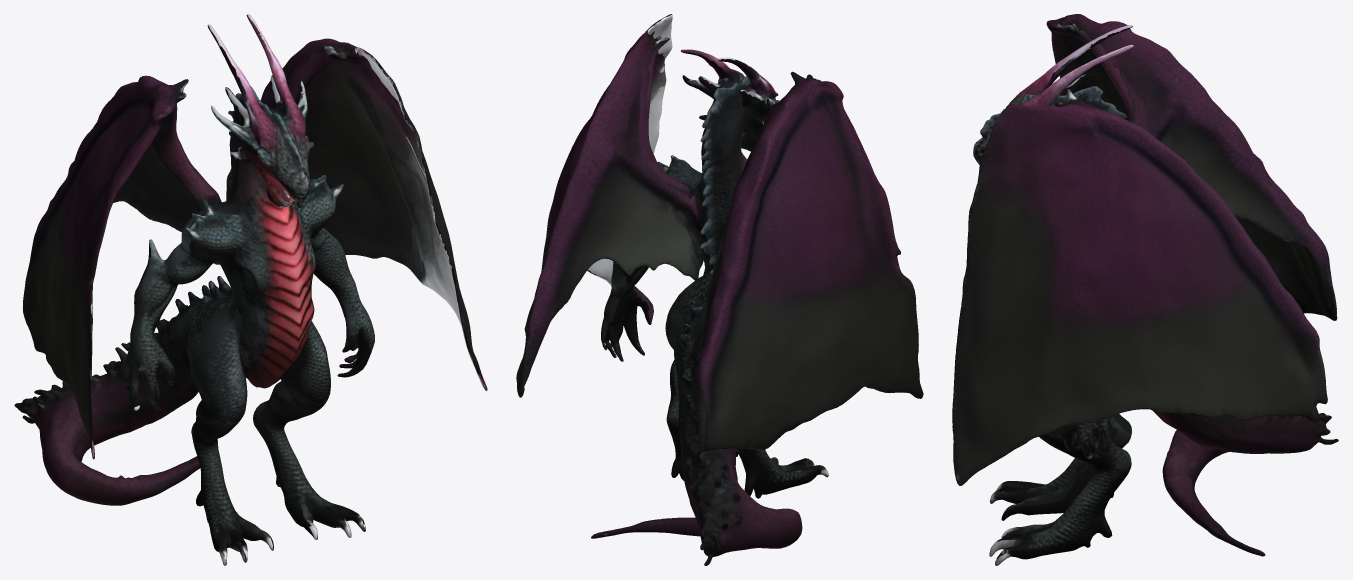
Rendered from dragao.glb.
3 renders of one model, left to right at view 1: azimuth 30°, elevation 25°; view 2: azimuth 150°, elevation 25°; view 3: azimuth 270°, elevation 25°, orthographic. The views are drawn at different scales.
Parts seen in each view (by area): view 1: Dragao; view 2: Dragao; view 3: Dragao.
Boxes of the visible parts, box(x1,y1,x2,y2) form: Dragao: box(14, 14, 487, 565); Dragao: box(516, 14, 923, 565); Dragao: box(952, 14, 1338, 565).
Size of the model in its own units: 4 by 5 by 3.52.
Materials: 1 (1 with a texture image).
